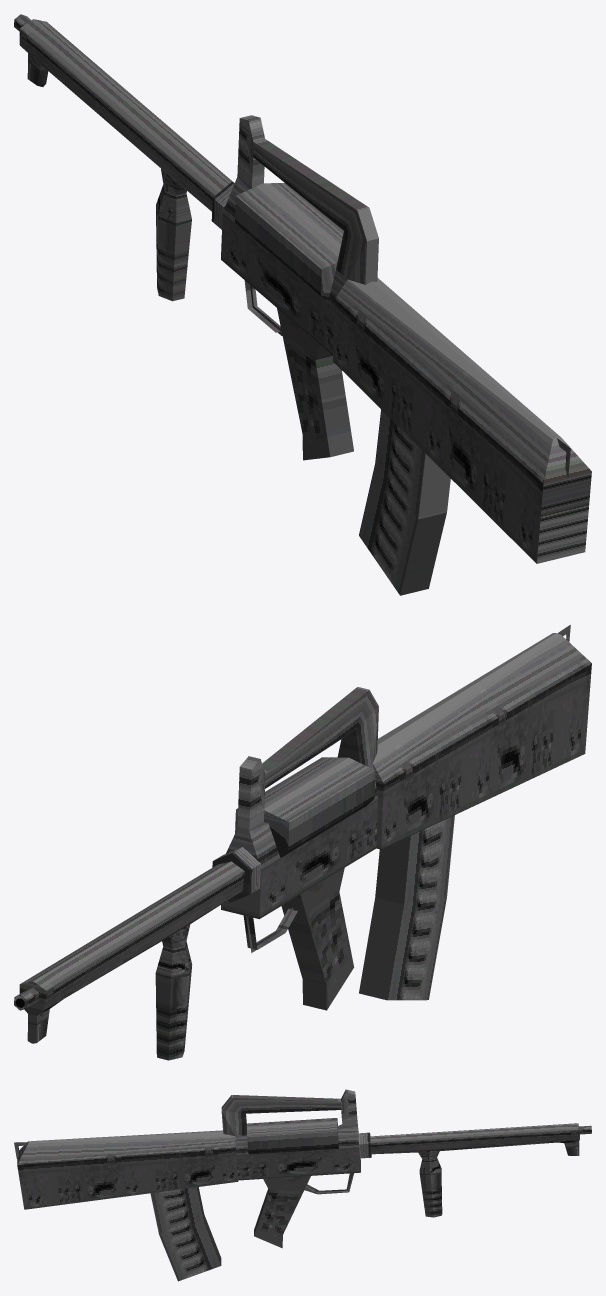
File: recovered_gun_ra14_groza.glb
3 views of the same model, one above another, from view 1: azimuth 30°, elevation 25°; view 2: azimuth 150°, elevation 25°; view 3: azimuth 270°, elevation 25° (orthographic). The views are drawn at different scales.
Visible parts, largest first — view 1: Gun_6f50e350adf6; view 2: Gun_6f50e350adf6; view 3: Gun_6f50e350adf6.
Boxes of the visible parts, <box> form: Gun_6f50e350adf6: <box>14,14,591,595</box>; Gun_6f50e350adf6: <box>15,625,591,1060</box>; Gun_6f50e350adf6: <box>14,1089,591,1281</box>.
Bounding box in the file's own units: 0.0448 × 0.2848 × 0.7982.
2 materials, 2 textured.
